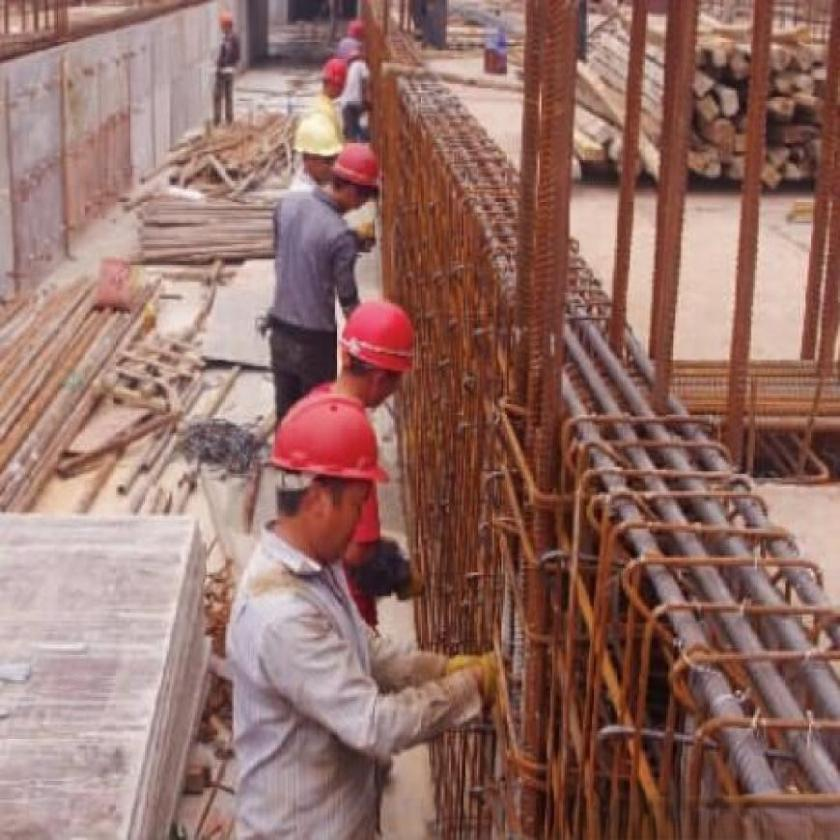Con_casco: (255, 389, 397, 556), (328, 300, 427, 410)
